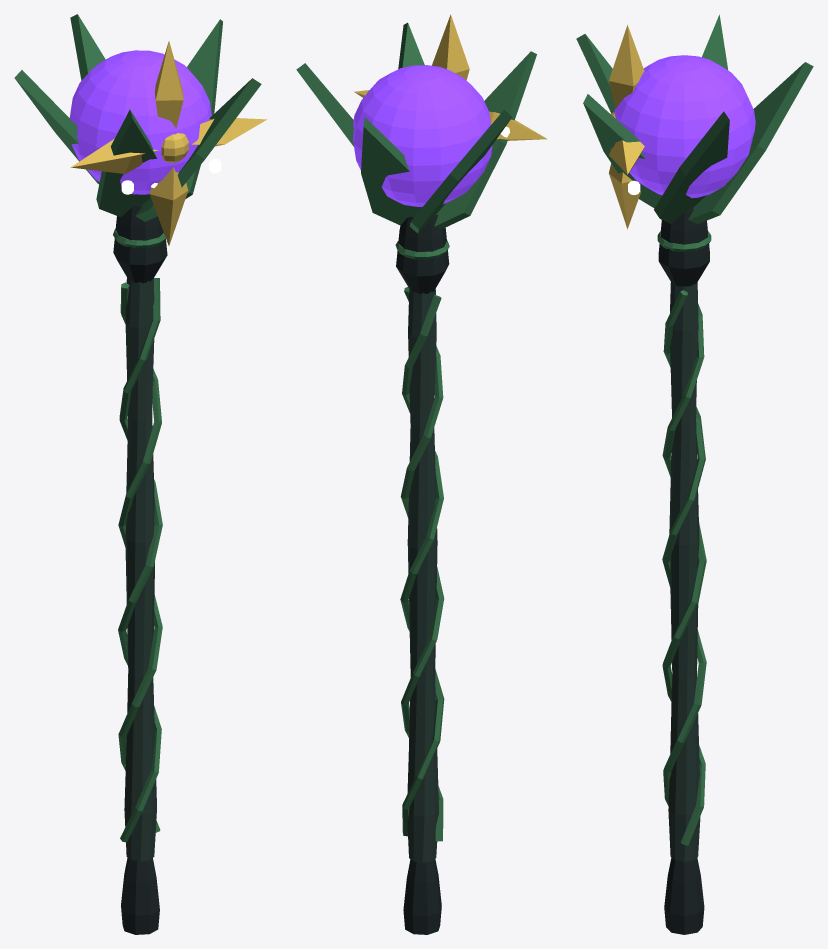
The model's file is staff_starfall.glb.
The picture shows the model from 3 angles, left to right: view 1: azimuth 30°, elevation 25°; view 2: azimuth 150°, elevation 25°; view 3: azimuth 270°, elevation 25°; orthographic projection.
Parts seen in each view (by area): view 1: Sf_Shaft, Sf_Orb, Sf_Vine1, Sf_Vine0, Sf_Neck, Sf_Butt, Sf_Leaf2, Sf_Leaf3, Sf_Leaf4, Sf_Leaf1, Sf_Star3, Sf_Star1 (+4 smaller); view 2: Sf_Shaft, Sf_Orb, Sf_Vine0, Sf_Leaf2, Sf_Leaf0, Sf_Vine1, Sf_Neck, Sf_Butt, Sf_Leaf1, Sf_Leaf4, Sf_Star1, Sf_Leaf3 (+1 smaller); view 3: Sf_Shaft, Sf_Orb, Sf_Leaf0, Sf_Vine0, Sf_Vine1, Sf_Leaf4, Sf_Butt, Sf_Neck, Sf_Leaf3, Sf_Star1, Sf_Leaf2, Sf_Star3 (+2 smaller).
Boxes of the visible parts, x1,y1,x2,y2 form: Sf_Shaft: [124, 278, 156, 861]; Sf_Orb: [69, 50, 211, 194]; Sf_Vine1: [118, 278, 162, 842]; Sf_Vine0: [118, 282, 162, 832]; Sf_Neck: [113, 205, 167, 283]; Sf_Butt: [121, 857, 159, 934]; Sf_Leaf2: [96, 109, 156, 217]; Sf_Leaf3: [135, 78, 261, 221]; Sf_Leaf4: [185, 19, 222, 198]; Sf_Leaf1: [14, 70, 99, 184]; Sf_Star3: [149, 167, 188, 245]; Sf_Star1: [154, 41, 183, 128]; Sf_Shaft: [407, 289, 438, 862]; Sf_Orb: [353, 65, 492, 206]; Sf_Vine0: [400, 295, 444, 836]; Sf_Leaf2: [434, 51, 536, 228]; Sf_Leaf0: [361, 117, 422, 225]; Sf_Vine1: [400, 287, 444, 841]; Sf_Neck: [396, 214, 449, 294]; Sf_Butt: [403, 859, 441, 934]; Sf_Leaf1: [409, 109, 512, 233]; Sf_Leaf4: [296, 63, 353, 146]; Sf_Star1: [432, 14, 469, 80]; Sf_Leaf3: [398, 22, 424, 68]; Sf_Shaft: [668, 282, 700, 861]; Sf_Orb: [614, 55, 755, 198]; Sf_Leaf0: [688, 62, 813, 223]; Sf_Vine0: [662, 303, 706, 845]; Sf_Vine1: [662, 290, 706, 805]; Sf_Leaf4: [654, 111, 729, 223]; Sf_Butt: [664, 858, 704, 934]; Sf_Neck: [658, 208, 709, 286]; Sf_Leaf3: [583, 94, 662, 208]; Sf_Star1: [609, 25, 644, 108]; Sf_Leaf2: [576, 34, 615, 113]; Sf_Star3: [609, 163, 640, 229].
Size of the model in its own units: 0.5631 by 2.28 by 0.5434.
